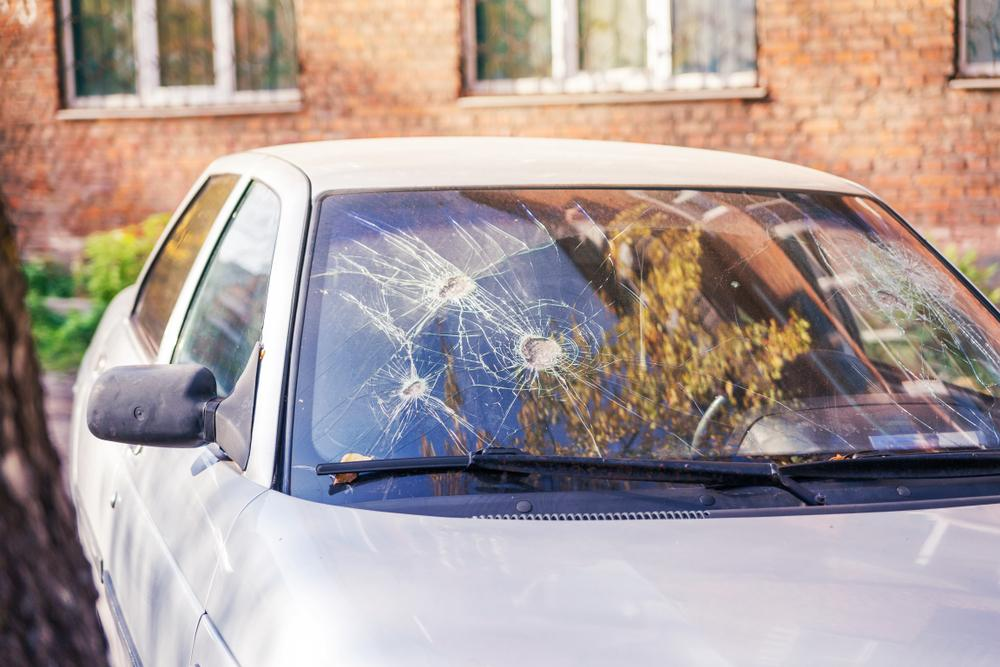glass shatter: (292, 188, 1000, 514)
